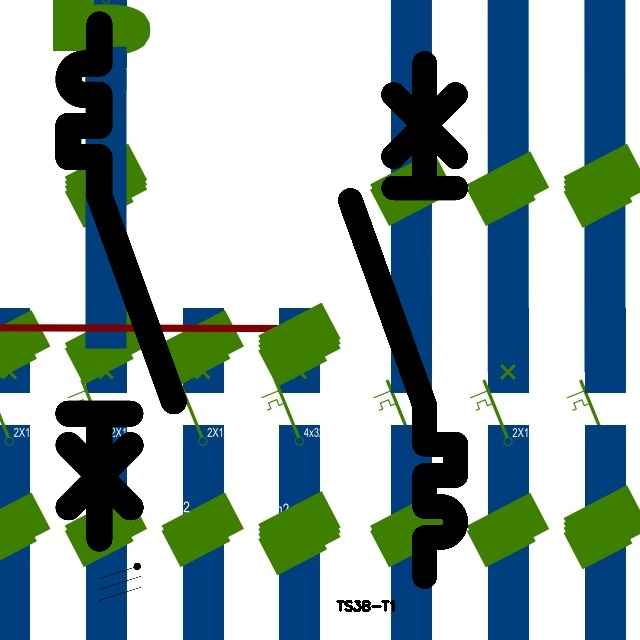interruptor_termomagnetico: (55, 11, 187, 552), (337, 50, 469, 590)
